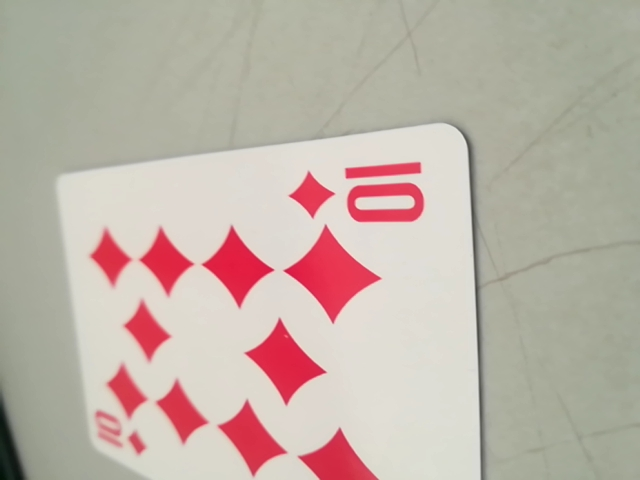fk 10: (293, 151, 437, 232), (87, 401, 158, 465)
